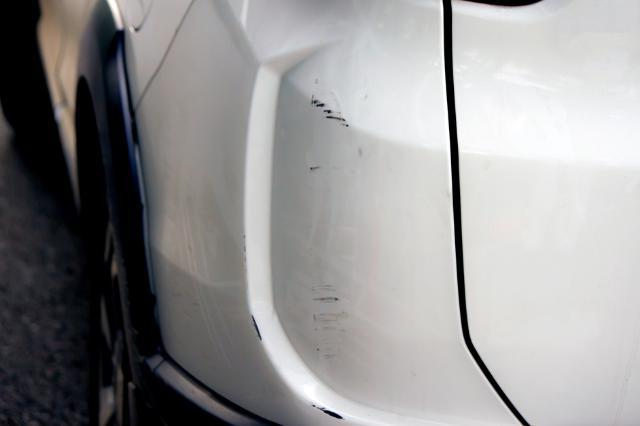Bumper: (229, 33, 407, 361)
